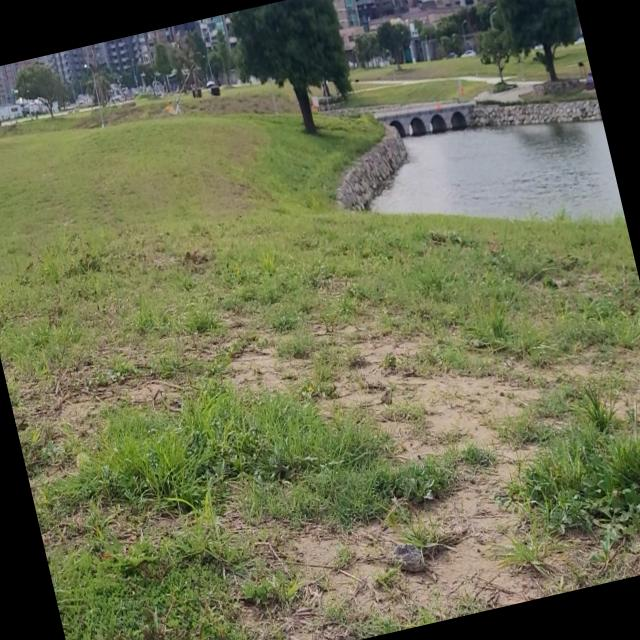grass: (0, 112, 640, 640)
